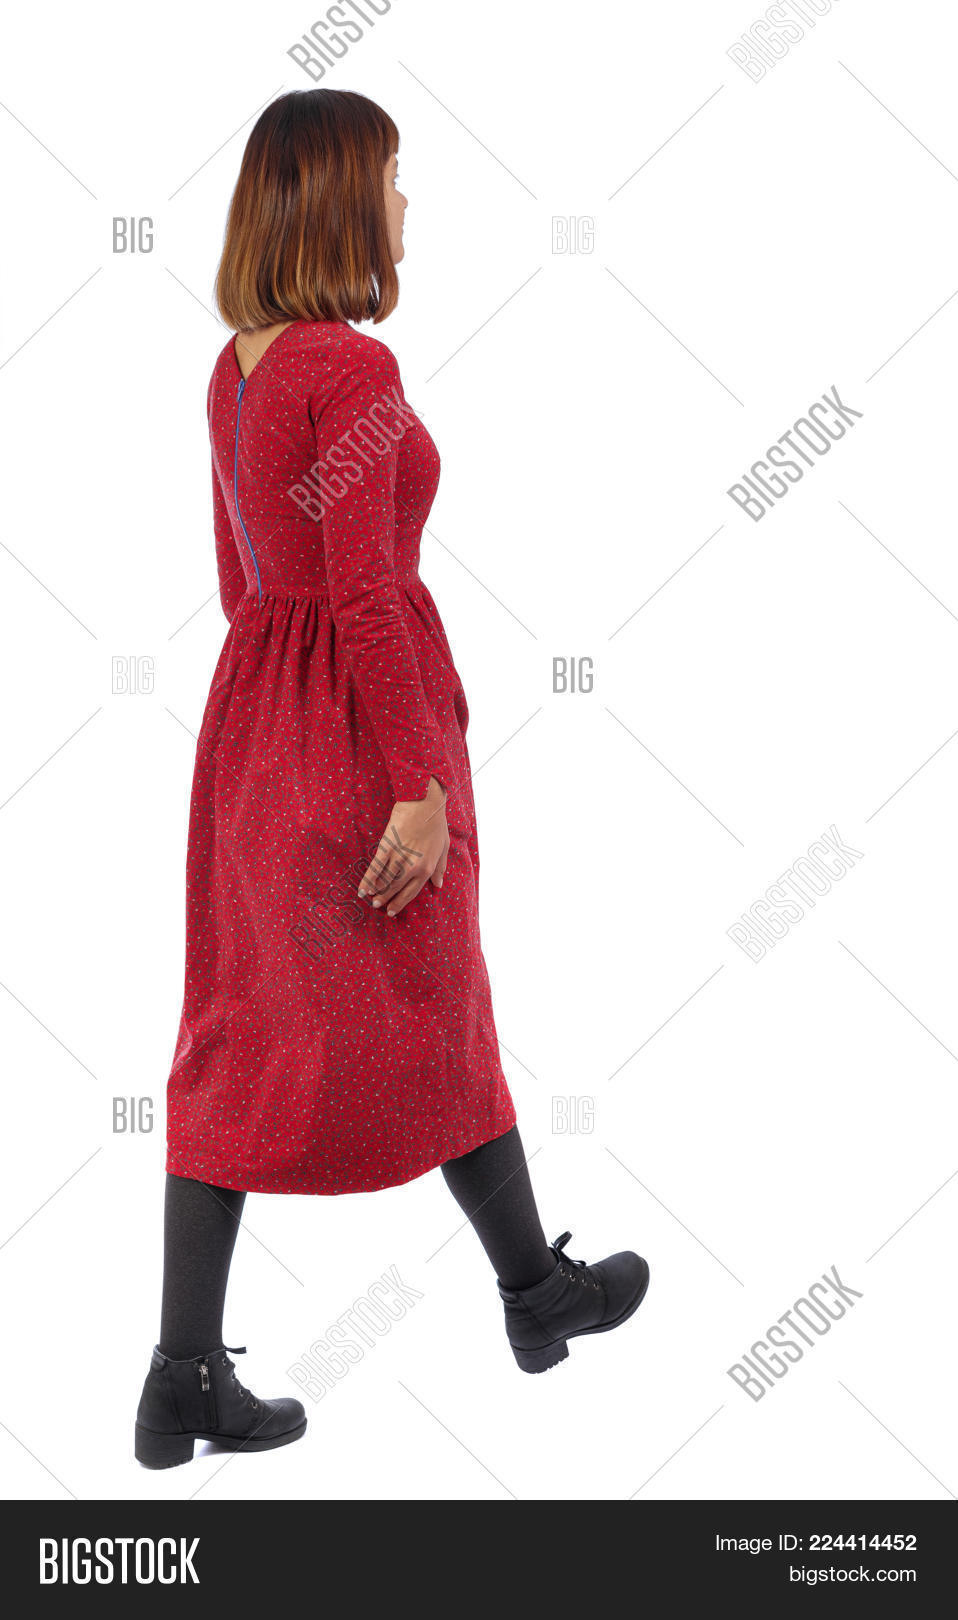Person: (129, 87, 667, 1486)
